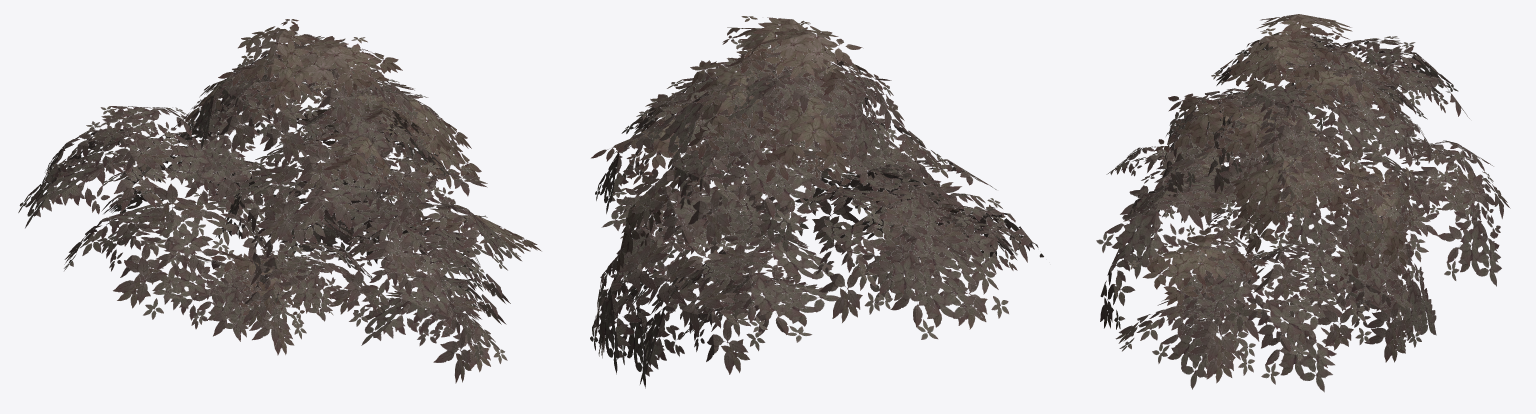
Rendered from Area11_21.fbx.
3 views of the same model, side by side, from view 1: azimuth 30°, elevation 25°; view 2: azimuth 150°, elevation 25°; view 3: azimuth 270°, elevation 25° (orthographic). The views are drawn at different scales.
Parts seen in each view (by area): view 1: Area11_21; view 2: Area11_21; view 3: Area11_21.
Boxes of the visible parts, x1,y1,x2,y2 form: Area11_21: [18, 19, 541, 383]; Area11_21: [590, 16, 1043, 388]; Area11_21: [1096, 14, 1510, 392].
Bounding box in the file's own units: 396 × 286 × 372.
